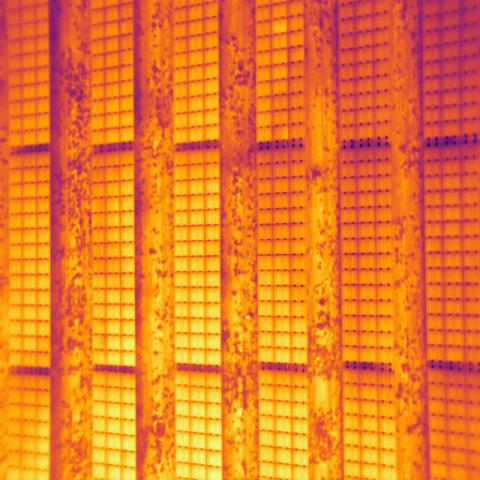fault: (272, 16, 286, 34)
